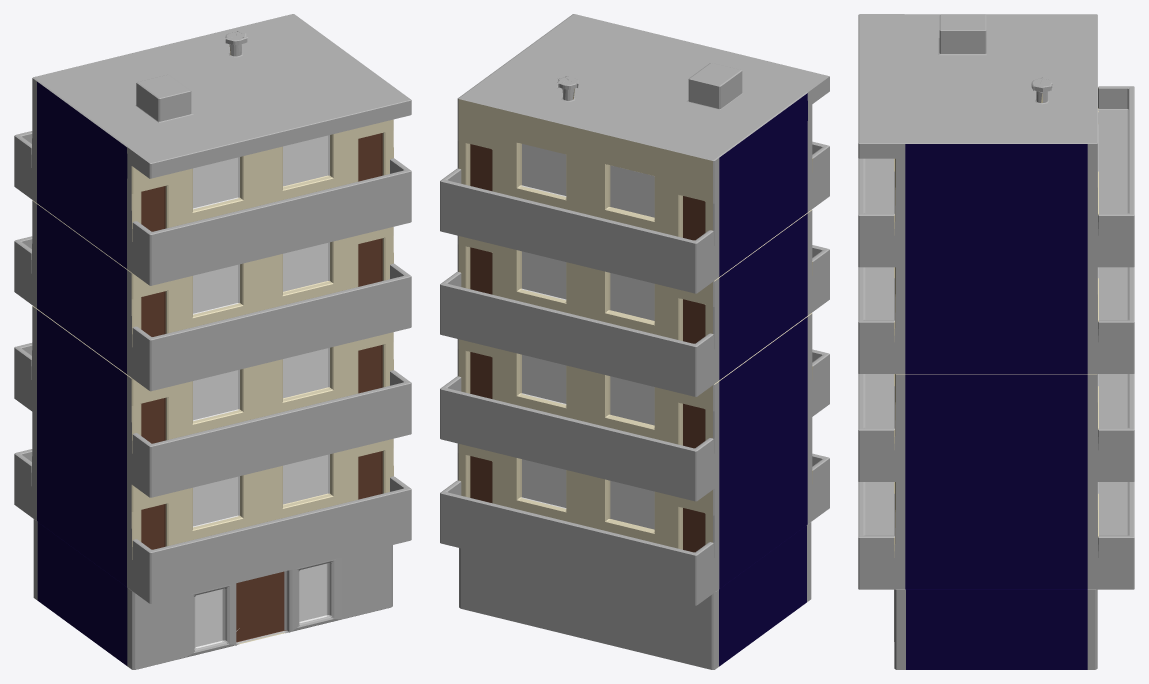
Rendered from Apartement.fbx.
The picture shows the model from 3 angles, left to right: view 1: azimuth 30°, elevation 25°; view 2: azimuth 150°, elevation 25°; view 3: azimuth 270°, elevation 25°; orthographic projection. The views are drawn at different scales.
Parts seen in each view (by area): view 1: appartement; view 2: appartement; view 3: appartement.
Boxes of the visible parts, bbox=[...] form: appartement: bbox=[14, 14, 411, 669]; appartement: bbox=[440, 14, 829, 669]; appartement: bbox=[858, 14, 1134, 669].
Bounding box in the file's own units: 359 × 712 × 324.
